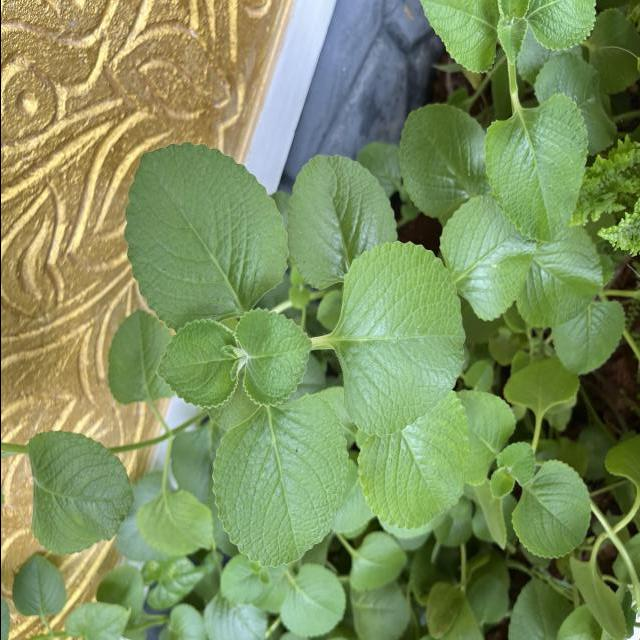Plectranthus barbatus: (121, 142, 290, 330), (334, 238, 466, 438), (210, 394, 349, 568), (354, 388, 470, 532), (481, 92, 589, 245), (284, 154, 398, 292), (23, 427, 133, 557), (435, 192, 536, 326), (396, 101, 488, 219), (514, 224, 602, 329), (509, 457, 592, 560), (154, 317, 242, 408), (234, 307, 312, 407), (106, 308, 172, 406), (548, 302, 624, 376), (136, 488, 212, 557), (278, 564, 346, 638), (11, 552, 66, 620)
